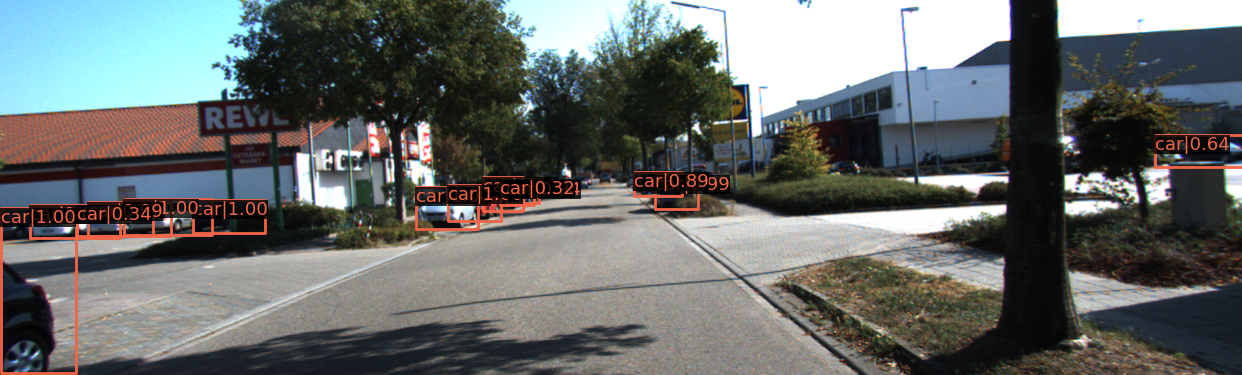car: (1, 228, 77, 375), (130, 201, 222, 237), (33, 207, 129, 241), (88, 205, 174, 239), (190, 200, 271, 236), (418, 190, 478, 231), (654, 175, 703, 212), (449, 188, 500, 221), (484, 179, 523, 211)
